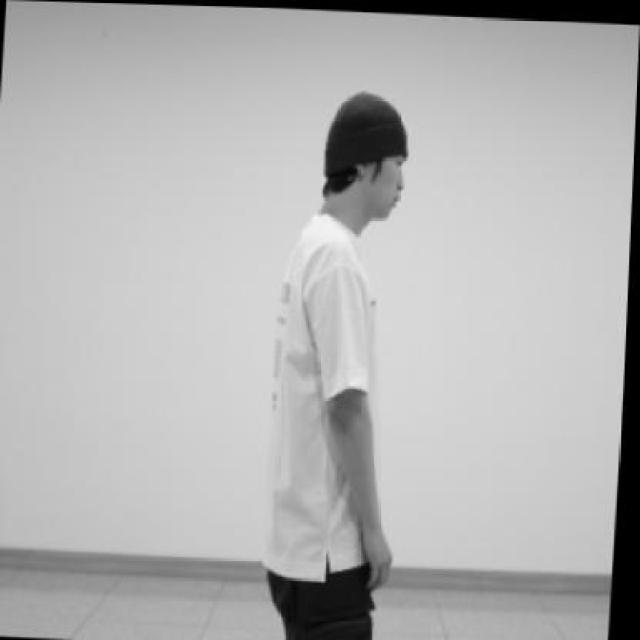hat: (318, 79, 412, 186)
